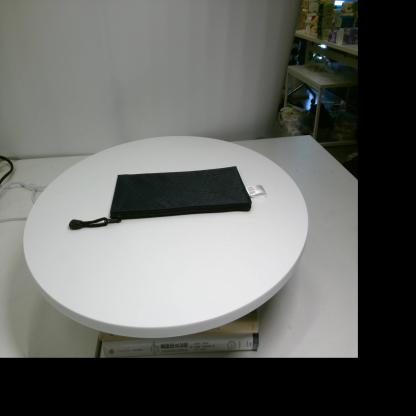Stationery: (69, 166, 266, 230)
